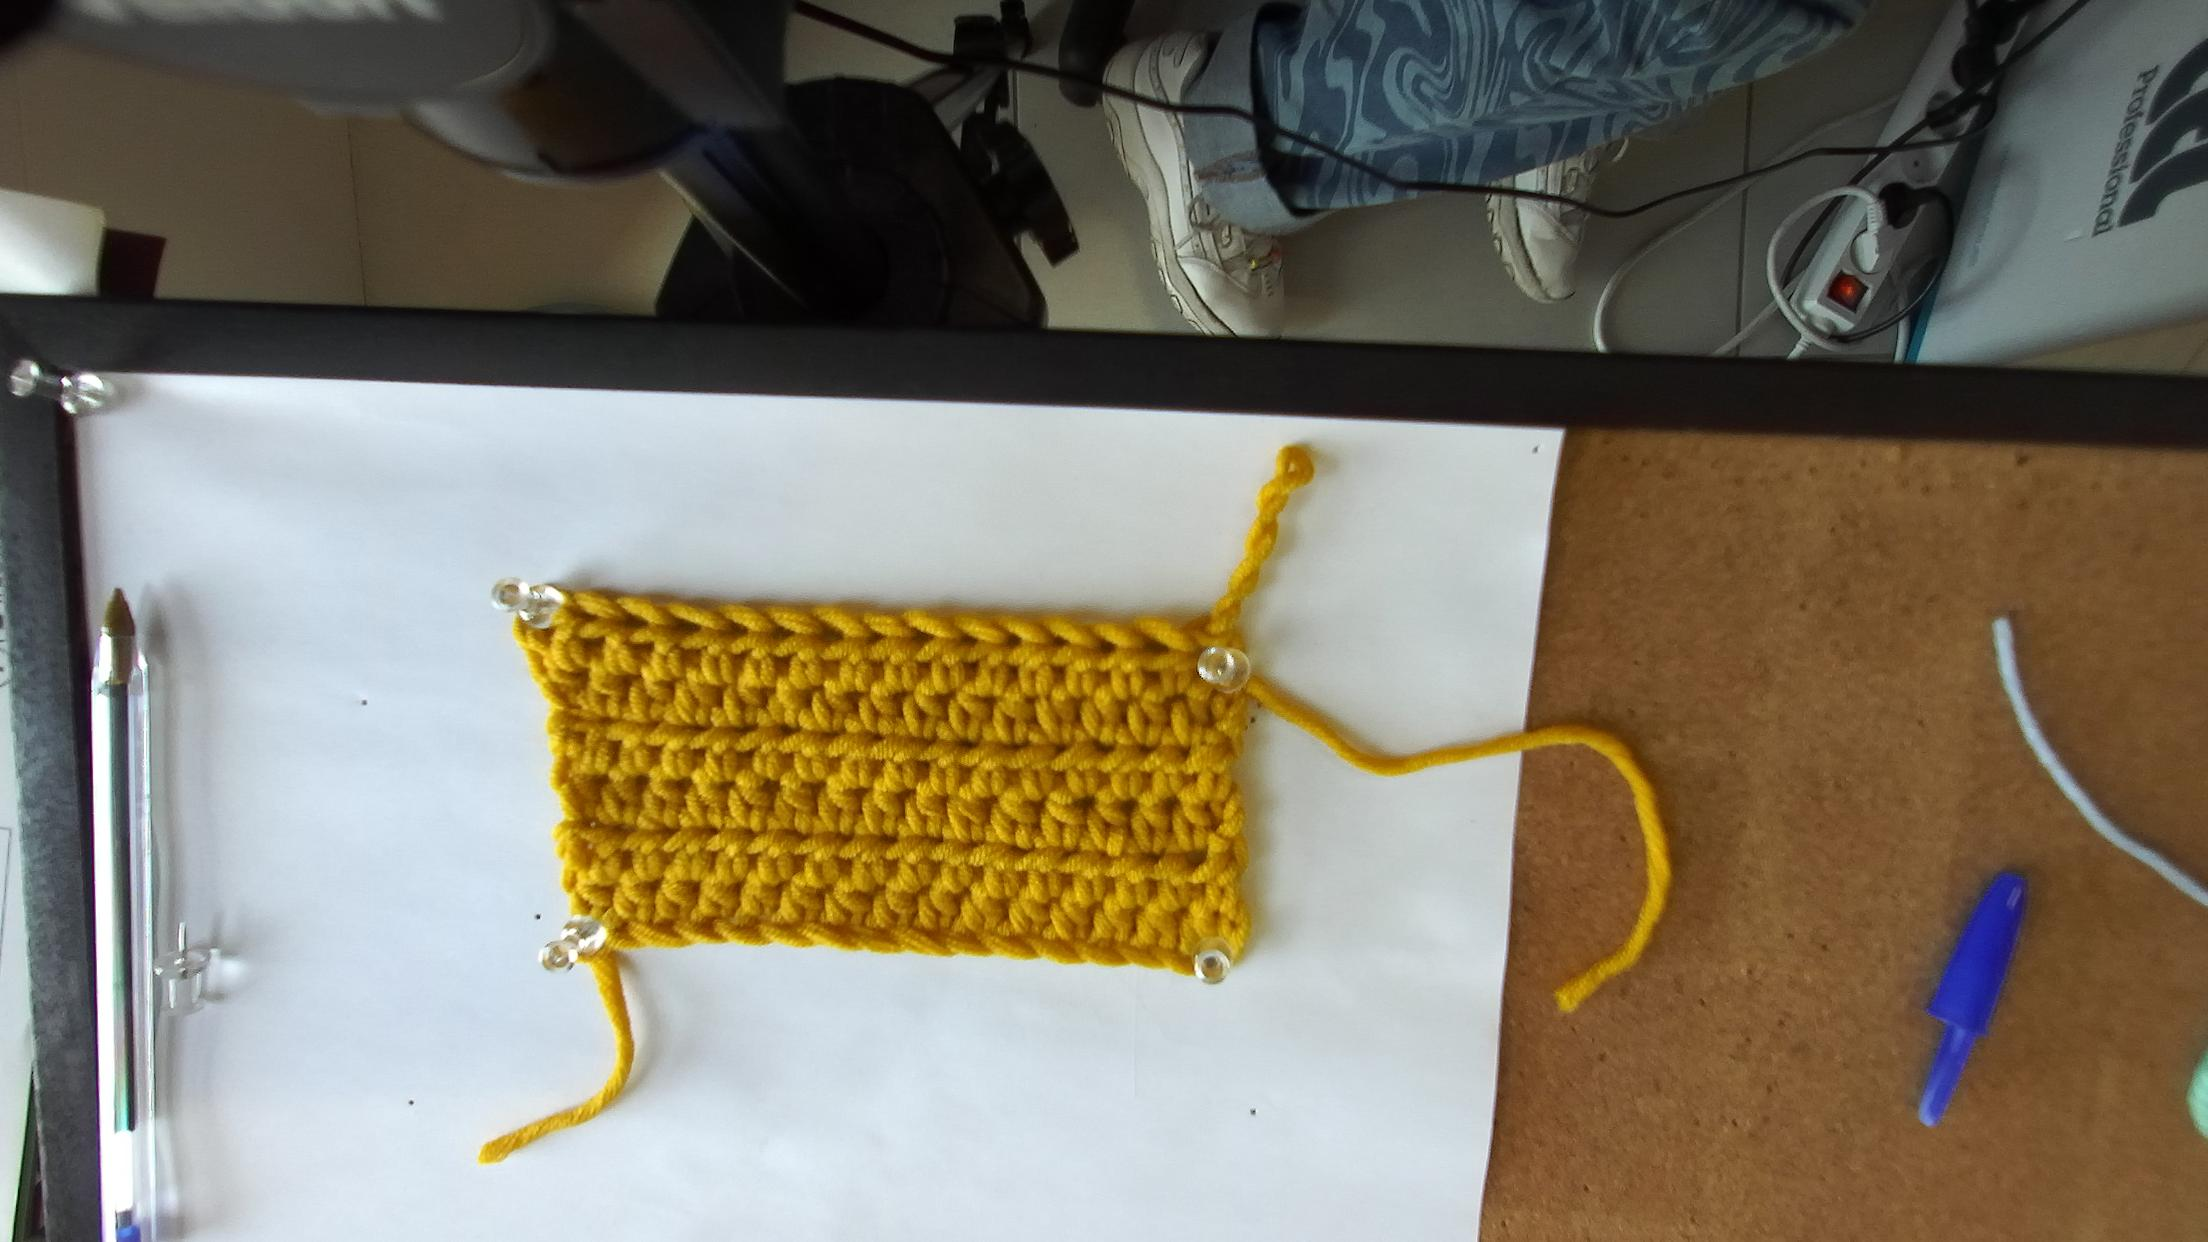hole: (1137, 634, 1172, 655), (813, 620, 843, 643), (666, 619, 704, 634), (767, 623, 796, 643), (617, 611, 651, 628), (566, 608, 602, 623), (864, 625, 889, 646), (911, 628, 937, 648), (955, 629, 978, 648), (722, 619, 748, 634), (1189, 640, 1209, 657), (1098, 638, 1116, 655), (1004, 634, 1022, 649), (1048, 637, 1071, 648)
swatch: (491, 582, 1257, 984)
